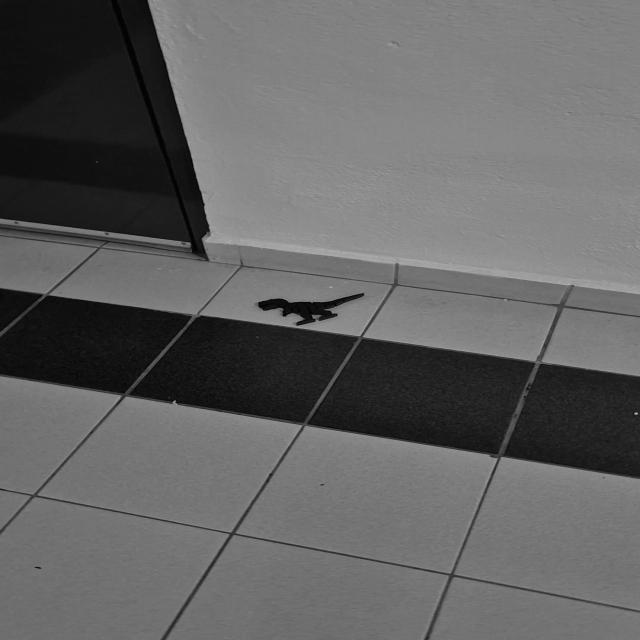dino: (257, 293, 365, 326)
